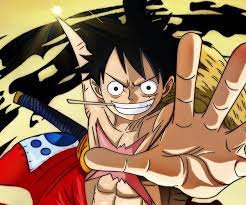Luffy: (95, 23, 188, 122)
